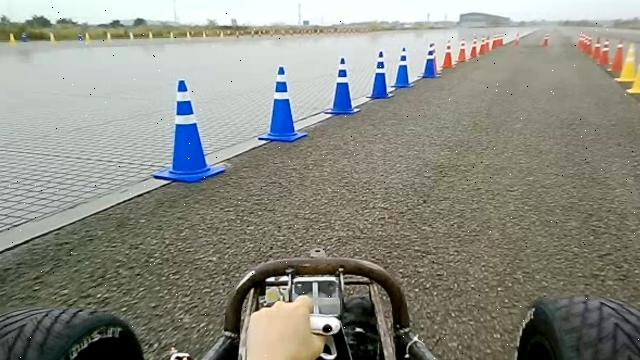blue cone: (152, 78, 225, 183), (257, 65, 308, 142), (324, 56, 361, 115), (365, 50, 394, 99), (390, 46, 414, 88), (418, 41, 441, 79)
red cone: (442, 39, 456, 69), (457, 37, 468, 63), (469, 36, 478, 58)
yellow cone: (612, 42, 638, 82), (626, 46, 640, 94)
